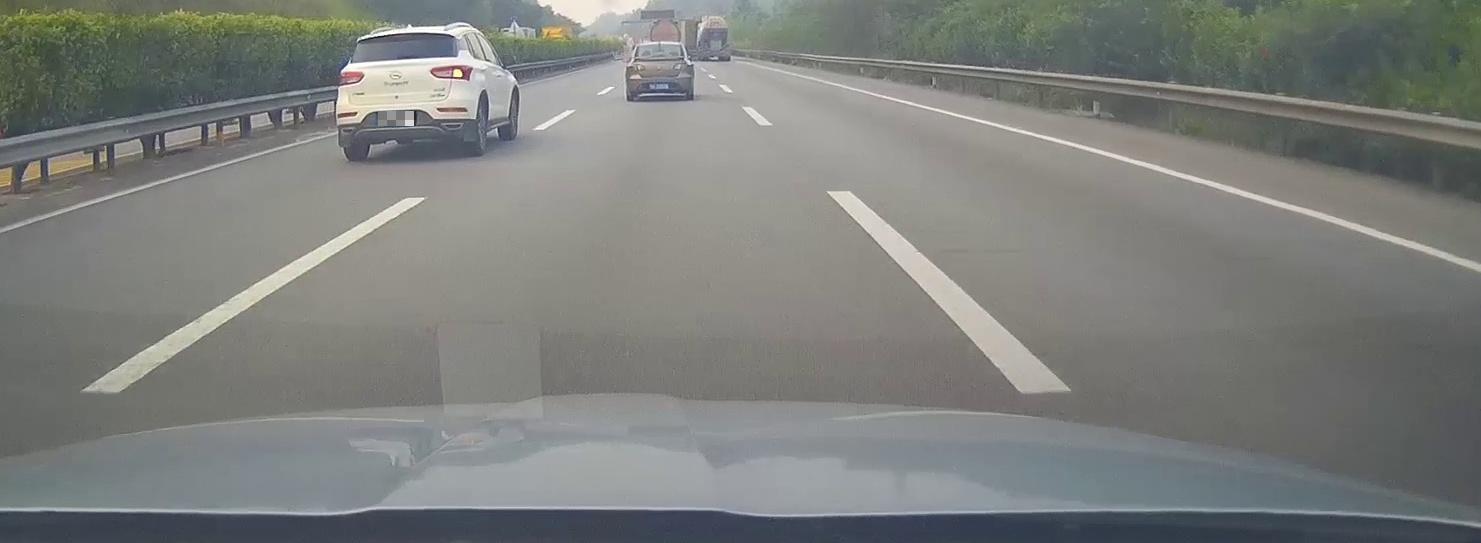L_light: (338, 71, 365, 86), (634, 64, 645, 71)
R_light: (429, 64, 473, 82), (673, 63, 686, 70)
T_light: (391, 33, 412, 37), (656, 44, 664, 45)
day-no: (625, 42, 694, 101)
day-right: (336, 26, 475, 161)
plate_1: (378, 111, 416, 126)
